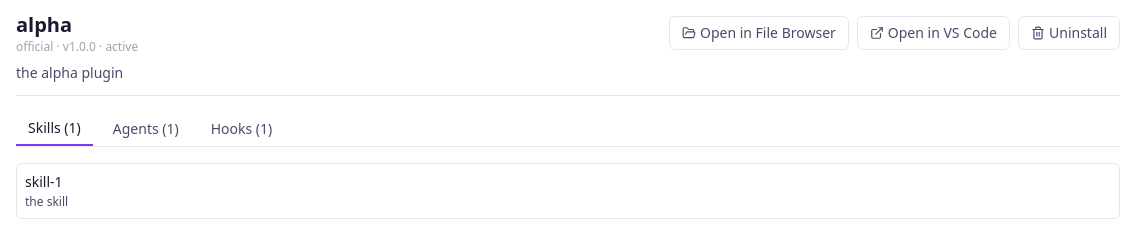
Test: PluginDetailView › clicking Hooks tab shows hook rows
Click the tab with test id "tab-hooks": (242, 129) top-left (199, 112), bottom-right (284, 146)
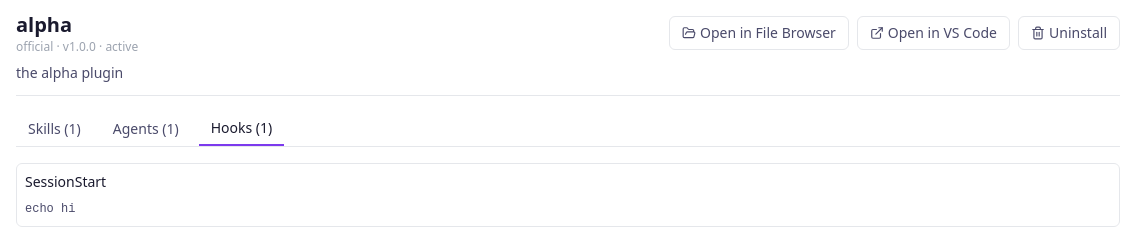
Now the list with test id "hooks-list" is shown, box top-left (16, 163), bottom-right (1120, 227)
